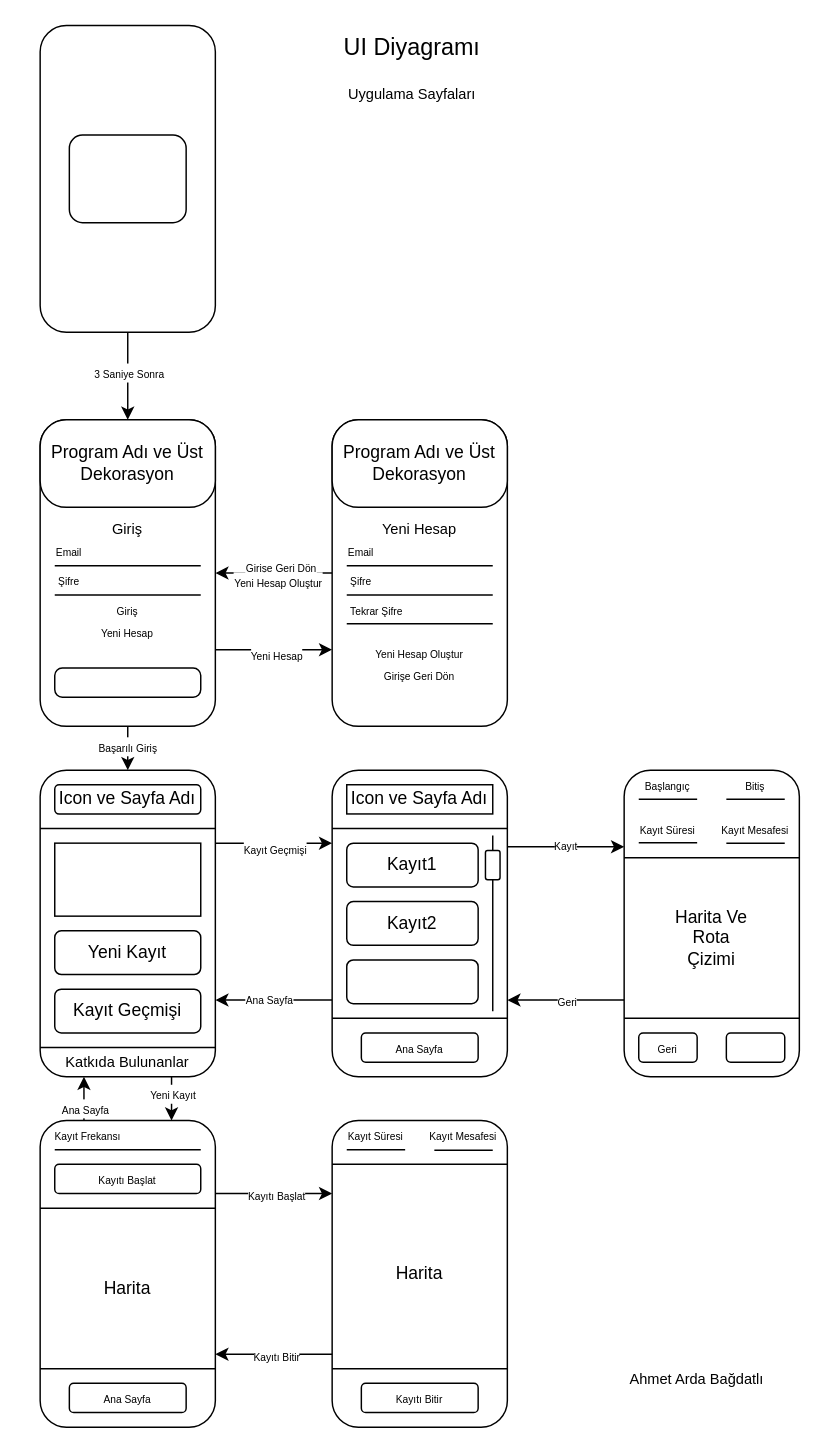
This 826x1453 diagram has some shape labels left out. The shapes that lost their labels are listed below. From the top down, each one's centre as x and y in pixels, then its label:
[127,178]: ICON
[127,681]: Google ile Giriş
[127,879]: Hava bilgileri
[411,981]: Kayıt3
[755,1046]: Kayıtı Sil
